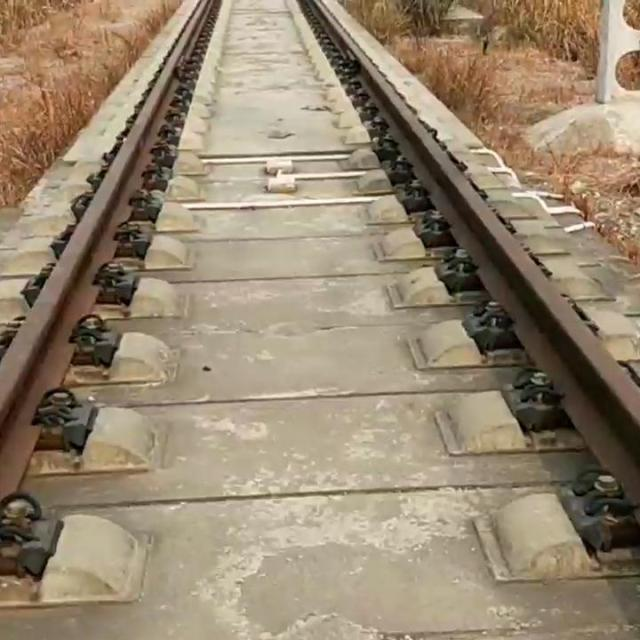rail: (312, 1, 640, 508), (2, 1, 218, 498)
